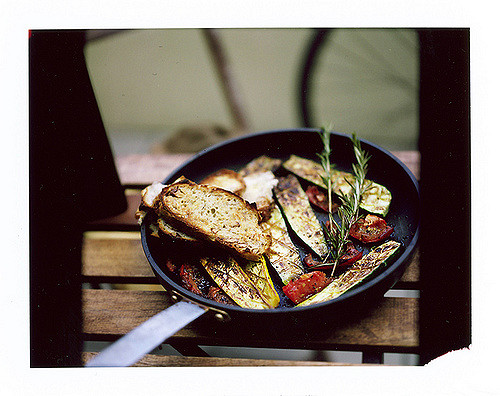slice of bread: (164, 183, 271, 260)
